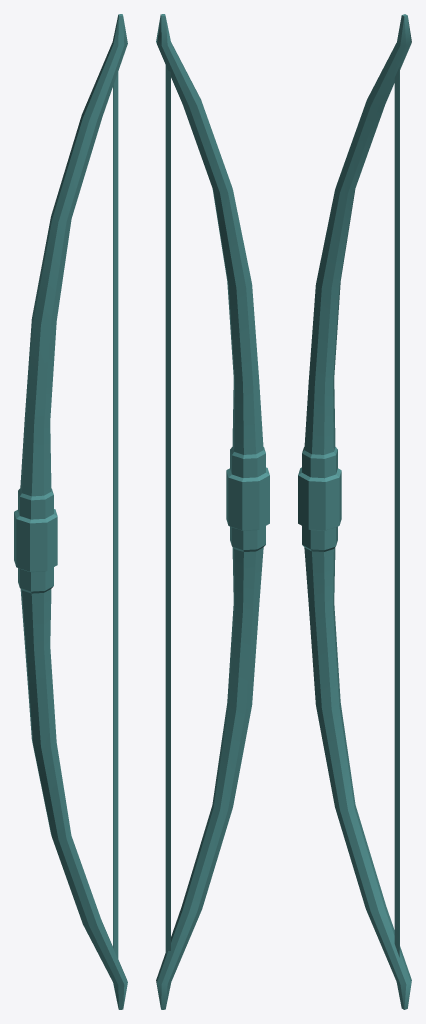
The model's file is Bow_3.fbx.
The picture shows the model from 3 angles, left to right: view 1: azimuth 30°, elevation 25°; view 2: azimuth 210°, elevation 25°; view 3: azimuth 330°, elevation 25°; orthographic projection.
Visible parts, largest first — view 1: L2; view 2: L2; view 3: L2.
Boxes of the visible parts, x1,y1,x2,y2 form: L2: (14,14,127,1009); L2: (156,14,269,1009); L2: (298,14,411,1009).
Size of the model in its own units: 19.11 by 164 by 6.76.
